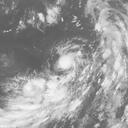cyclone: (48, 37, 90, 79)
